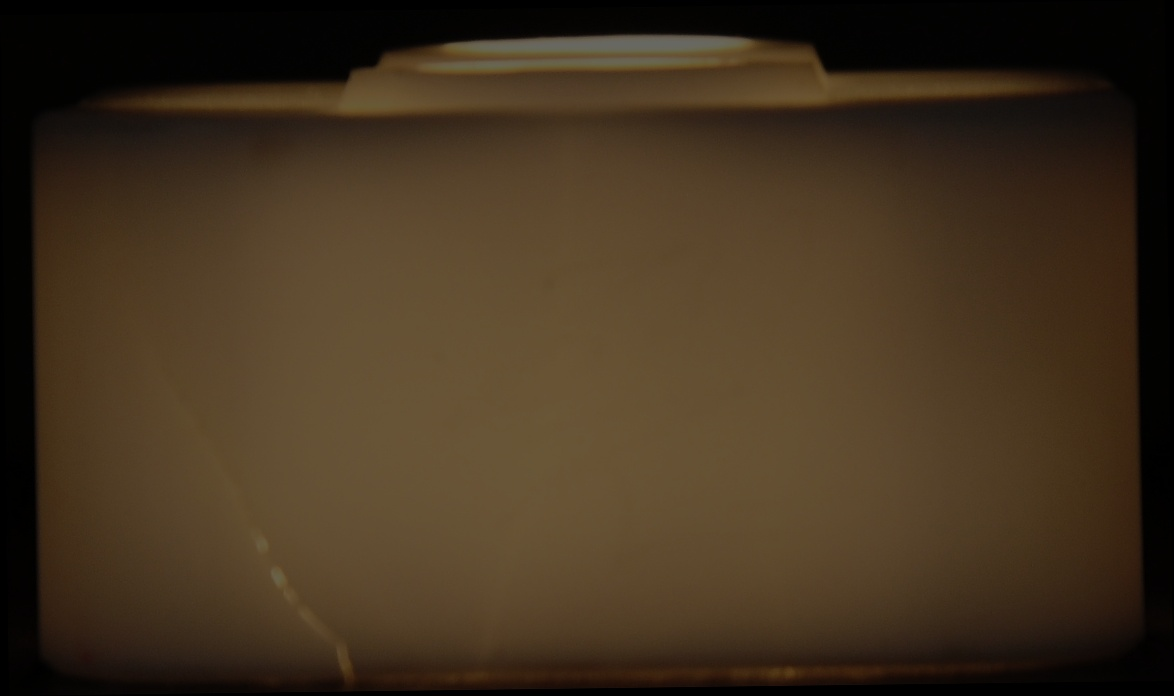flaw: (239, 520, 369, 687), (151, 362, 240, 517)
